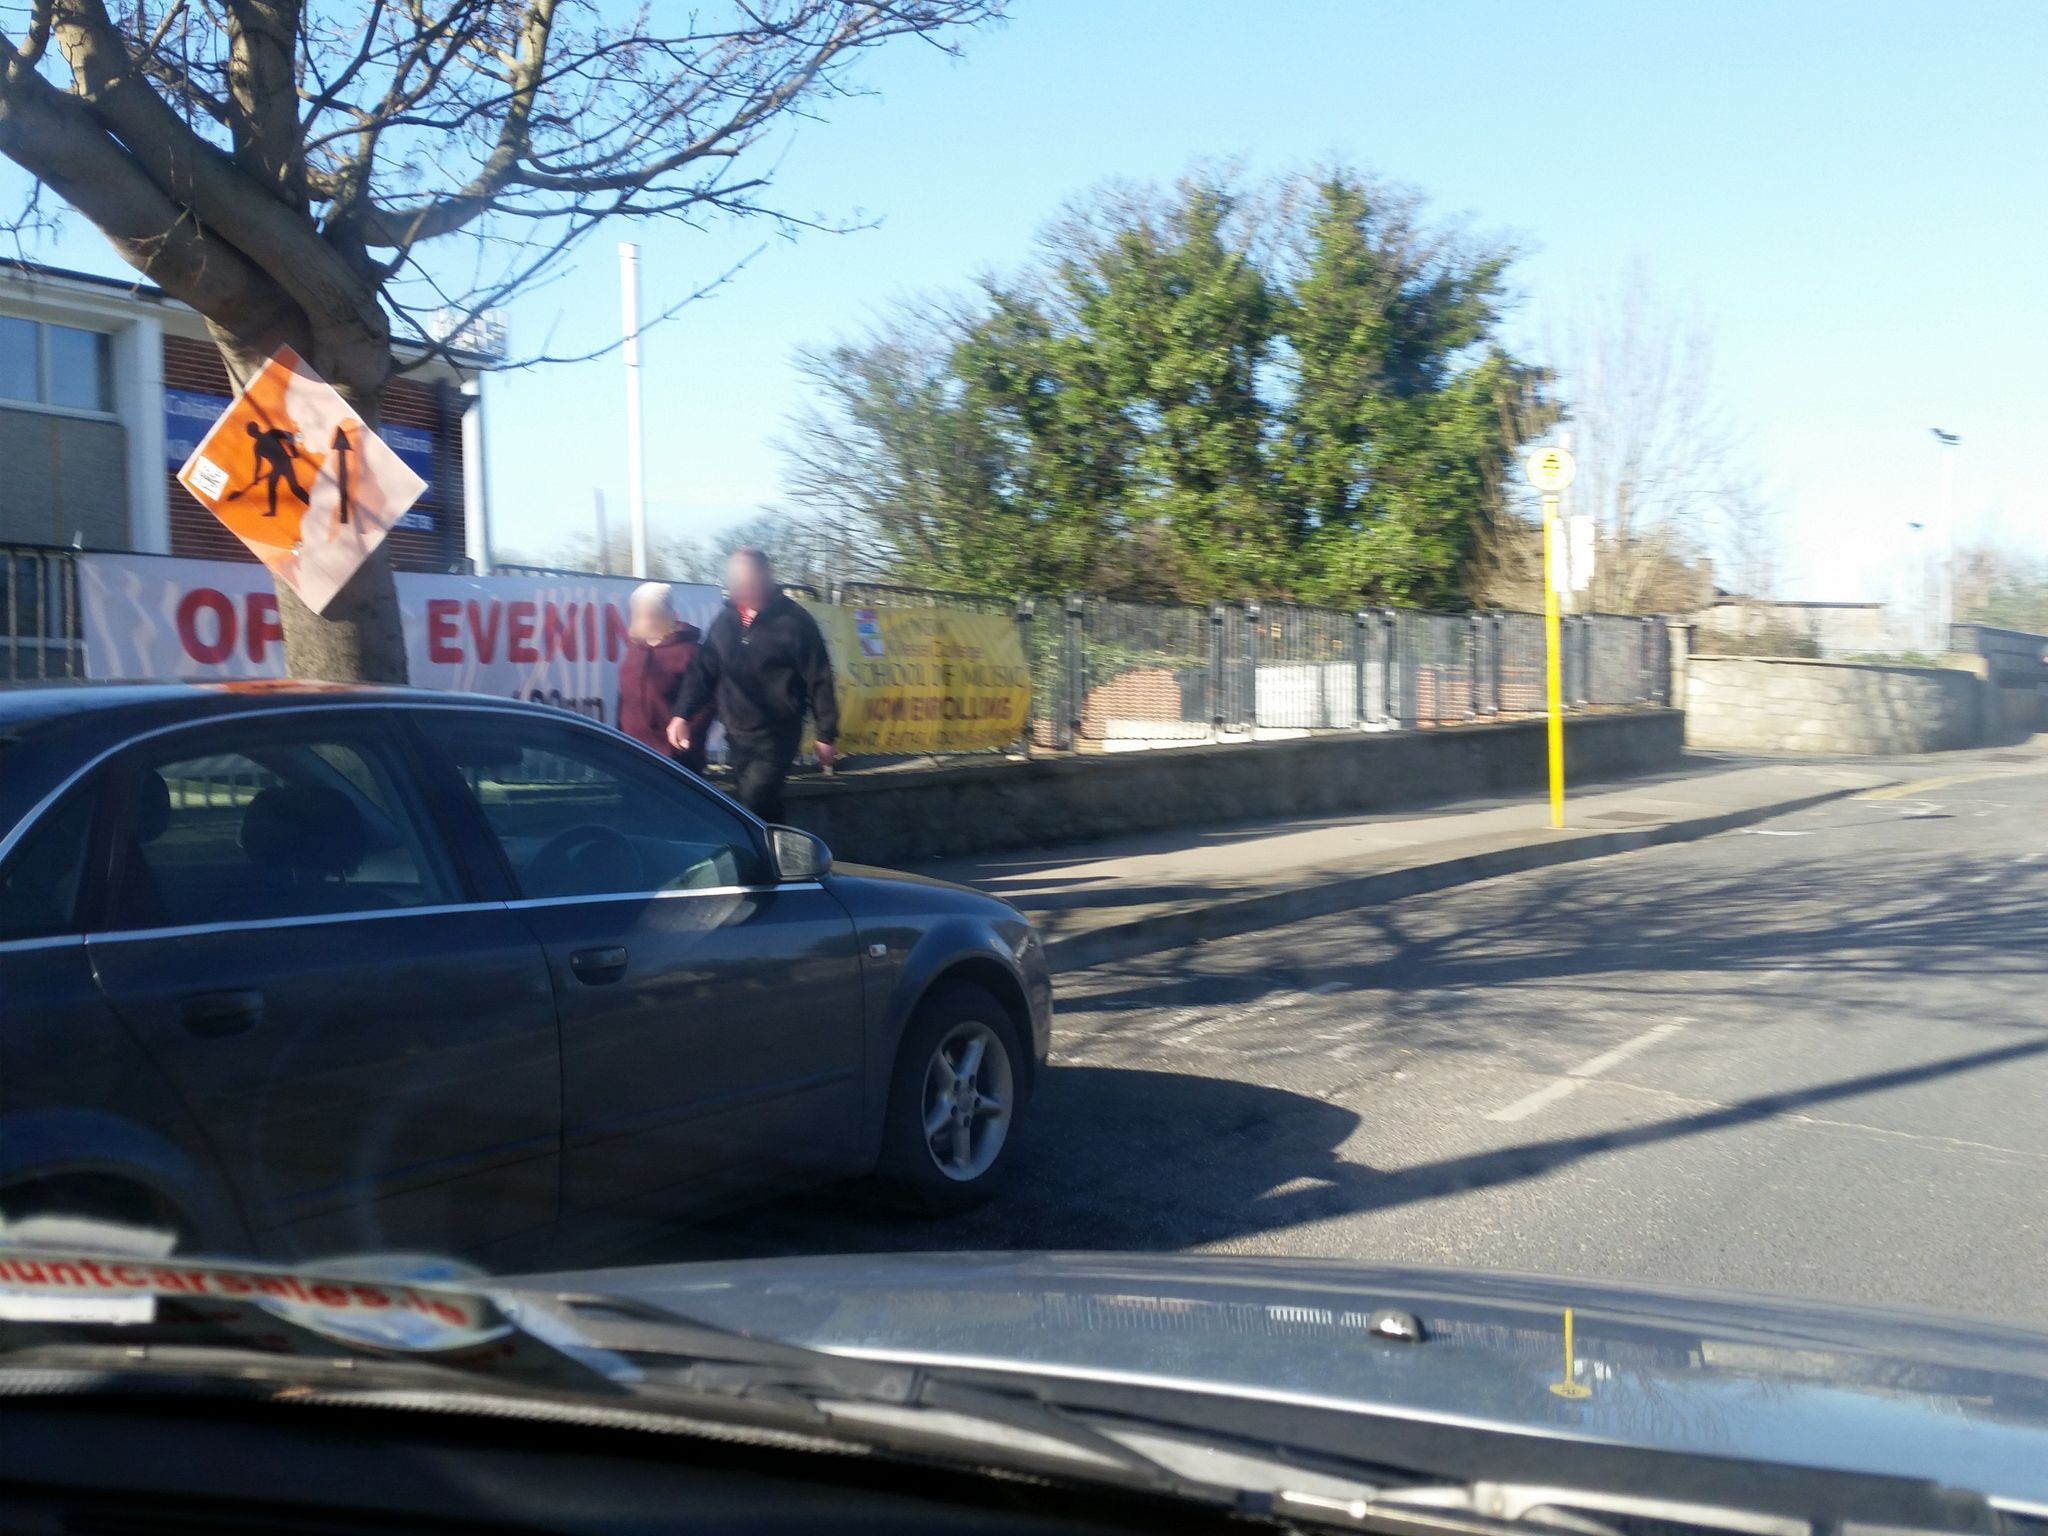vinyl banner: (58, 531, 722, 813), (774, 579, 1034, 786)
